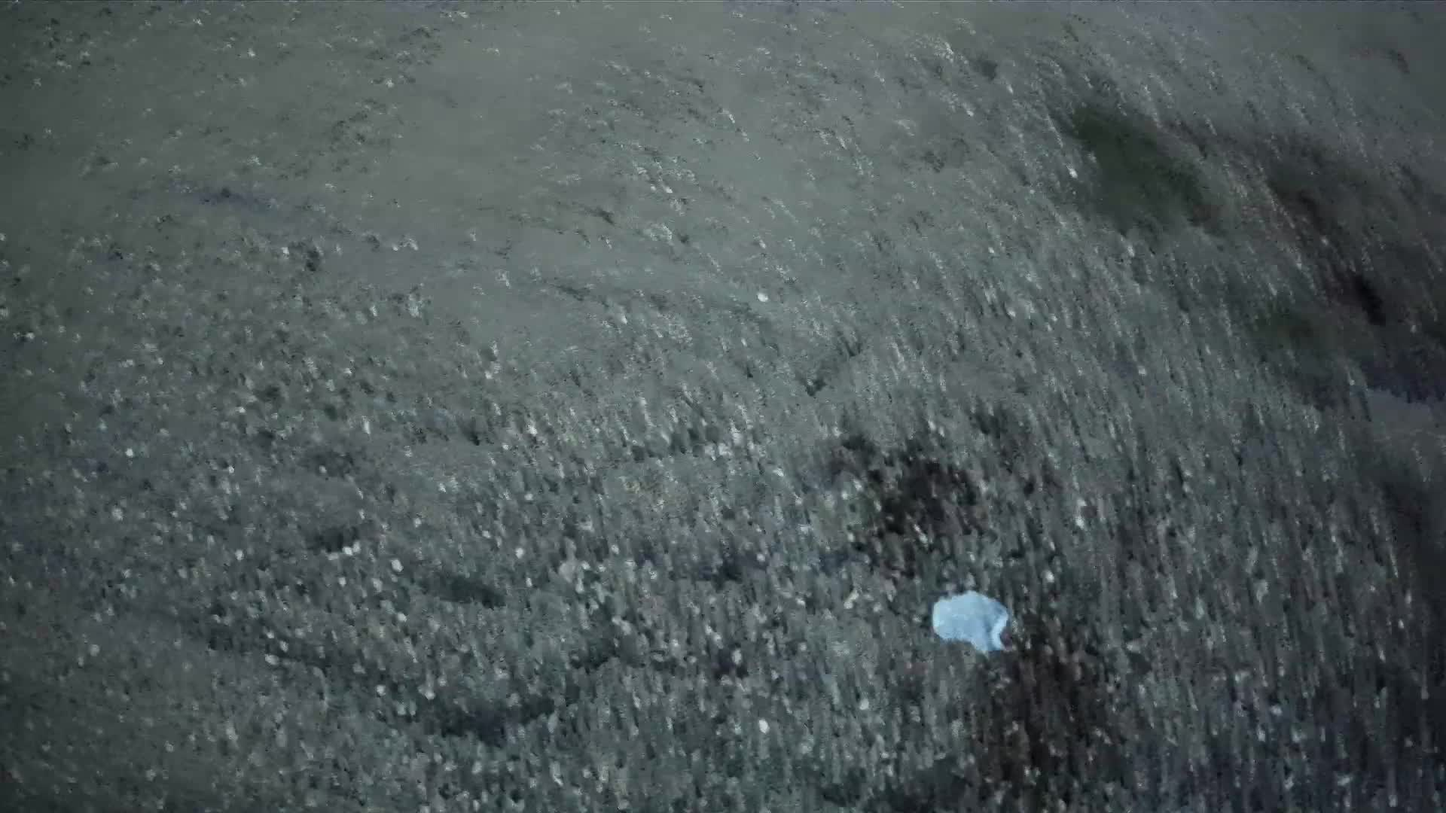Target: (926, 586, 1023, 658)
